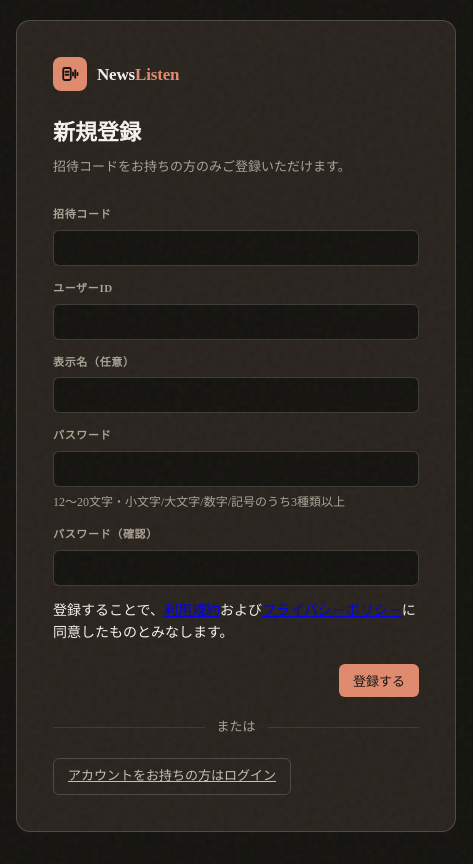
Test: SignupPage — client-side validation › shows the character-class message for a 12-character password with only 2 classes
Step 1. Type "newbie" into the field labelled "ユーザーID" → (236, 322), box [53,304,419,340]
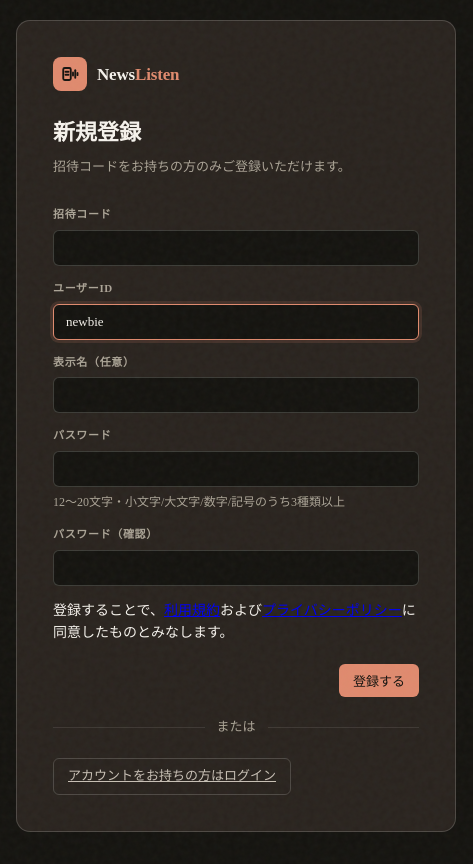
Step 2. Type "abcdefgh1234" into the password field labelled "パスワード" → (236, 469), box [53,451,419,487]
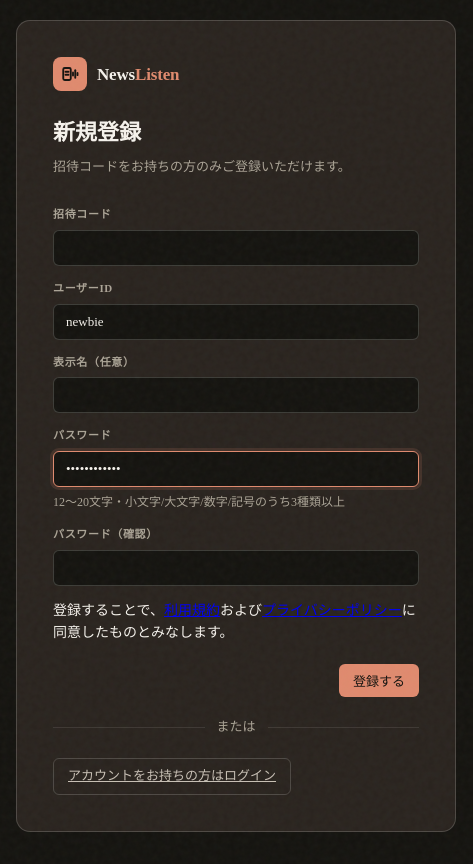
Step 3. Type "abcdefgh1234" into the password field labelled "パスワード（確認）" → (236, 568), box [53,550,419,586]
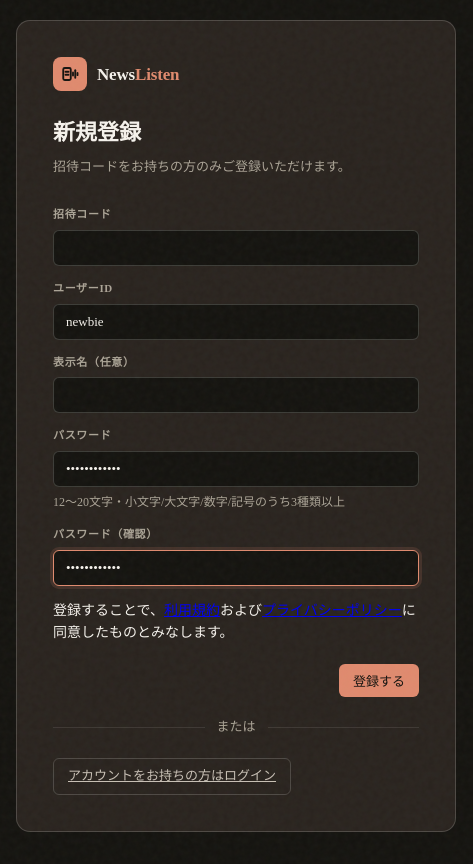
Step 4. Click the button "登録する" → (379, 681), box [339,664,419,697]
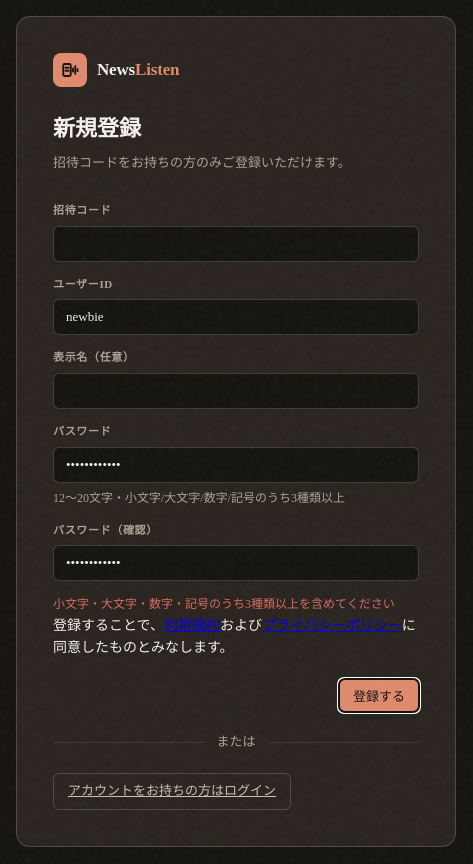
Check: the text "小文字・大文字・数字・記号のうち3種類以上を含めてください" is shown, box [53,595,419,615]
